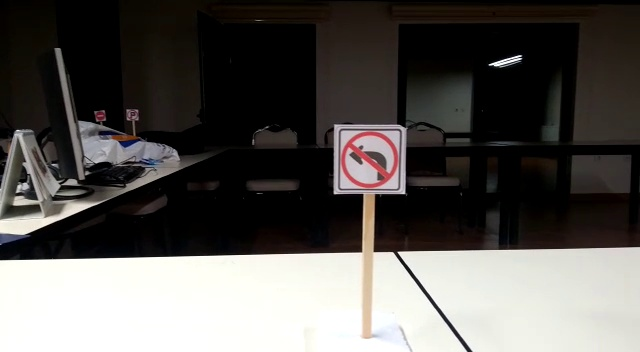sola_donulmez: (344, 129, 404, 192)
